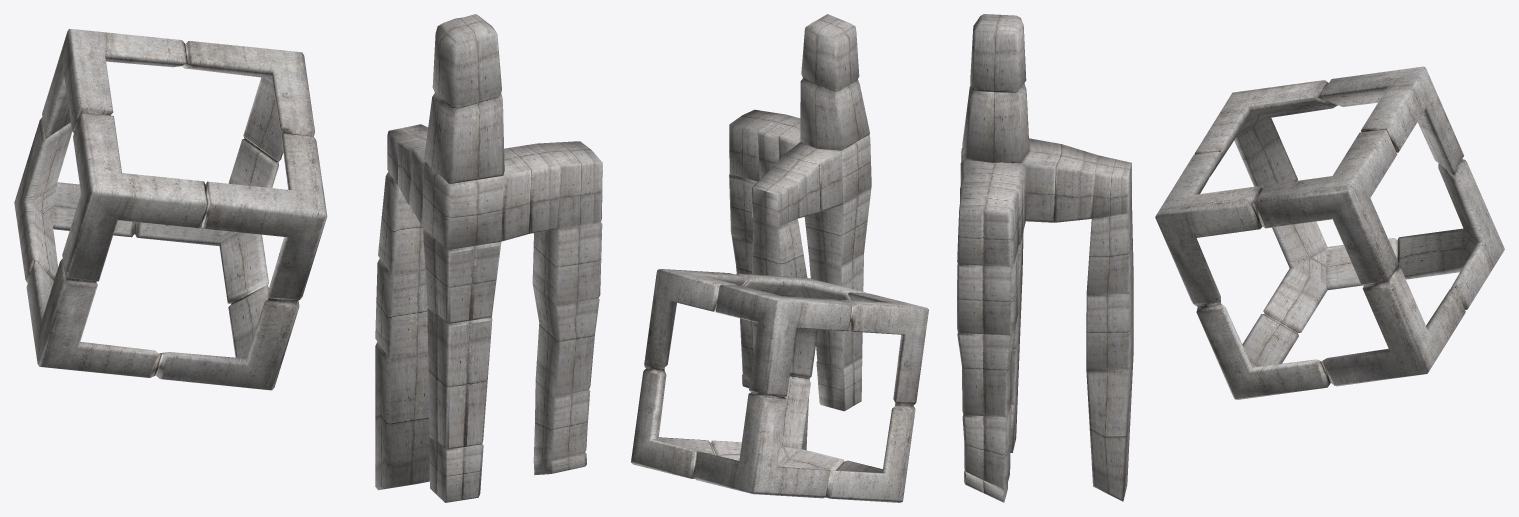
File: MEGASTRUCTURES.fbx
3 views of the same model, side by side, from view 1: azimuth 30°, elevation 25°; view 2: azimuth 150°, elevation 25°; view 3: azimuth 270°, elevation 25° (orthographic). The views are drawn at different scales.
Parts seen in each view (by area): view 1: 2, 1; view 2: 1, 2; view 3: 1, 2.
Boxes of the visible parts, x1,y1,x2,y2 form: 2: (375,14,602,502); 1: (14,28,327,390); 1: (631,269,928,502); 2: (729,14,871,450); 1: (1155,66,1504,399); 2: (957,14,1133,502).
Size of the model in its own units: 661 by 855 by 892.
1 material, 1 textured.
